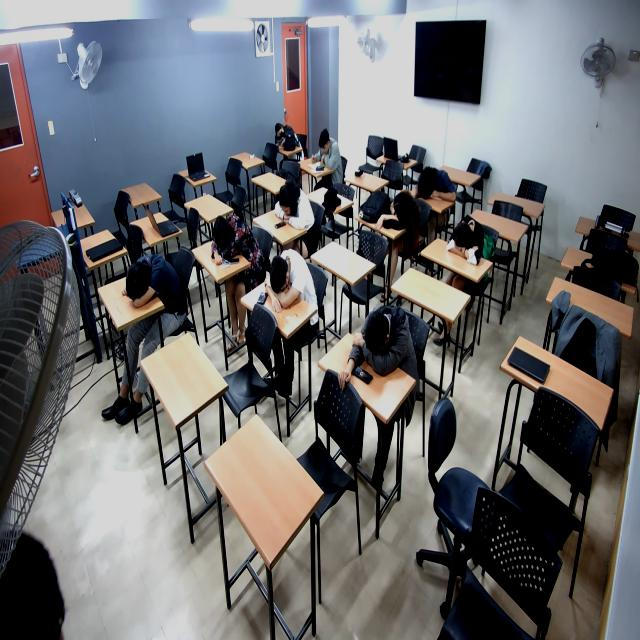sleep: (346, 308, 422, 380), (262, 251, 319, 311), (123, 258, 184, 310), (206, 215, 265, 267), (374, 193, 422, 240), (274, 186, 319, 233), (445, 220, 490, 263), (409, 167, 460, 204), (271, 122, 305, 151)
